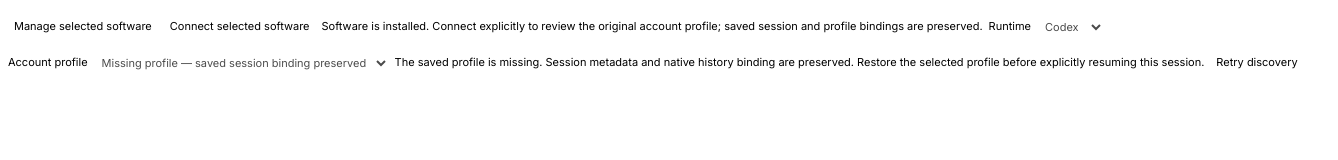
Test: installed software with stopped host offers explicit connection without passive start or bound profile changes
The image size is (1338, 160).
What coordinates should you click on to do the following:
click the button "Connect selected software"
I would click on:
 (240, 27)
Its box is [164,16,316,38].
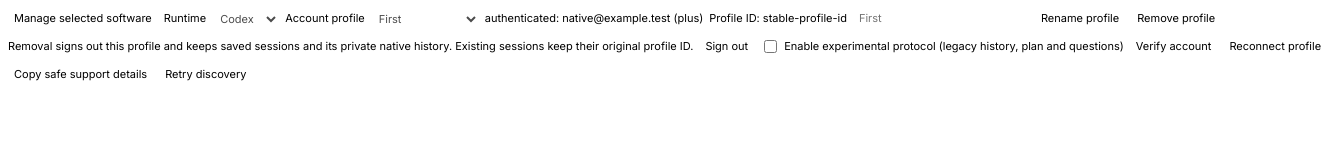
Expected: the text "stable-profile-id" is shown, [709,11,847,25]
